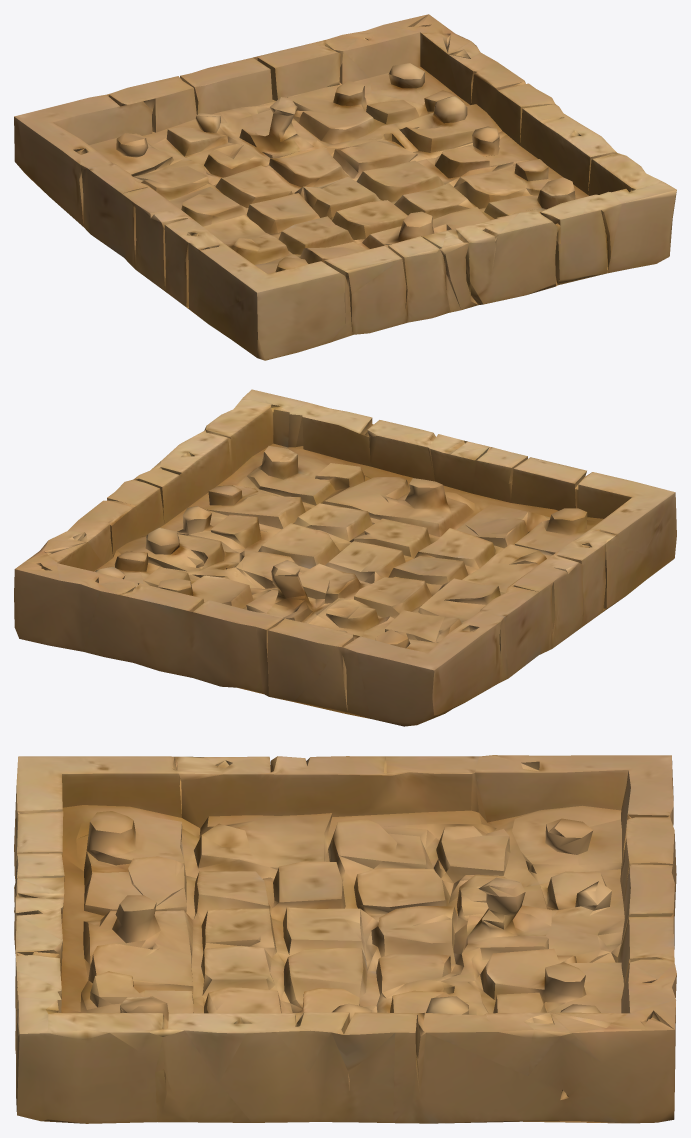
File: m2SpikeTrapTile.glb
3 renders of one model, top to bottom at view 1: azimuth 30°, elevation 25°; view 2: azimuth 150°, elevation 25°; view 3: azimuth 270°, elevation 25°, orthographic. The views are drawn at different scales.
Visible parts, largest first — view 1: model; view 2: model; view 3: model.
Boxes of the visible parts, x1=… form: model: x1=14, y1=14, x2=676, y2=360; model: x1=14, y1=389, x2=676, y2=726; model: x1=14, y1=755, x2=676, y2=1123.
Bounding box in the file's own units: 1.9 × 0.3321 × 1.91.
Materials: 1 (1 with a texture image).
